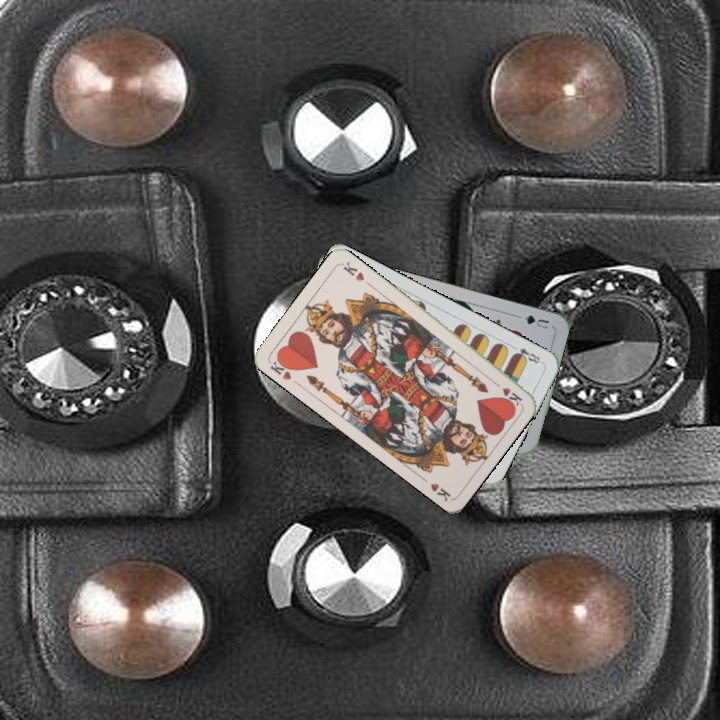E8: (508, 341, 545, 366)
GU: (521, 311, 552, 332)
HK: (488, 377, 525, 408), (266, 353, 297, 383)
